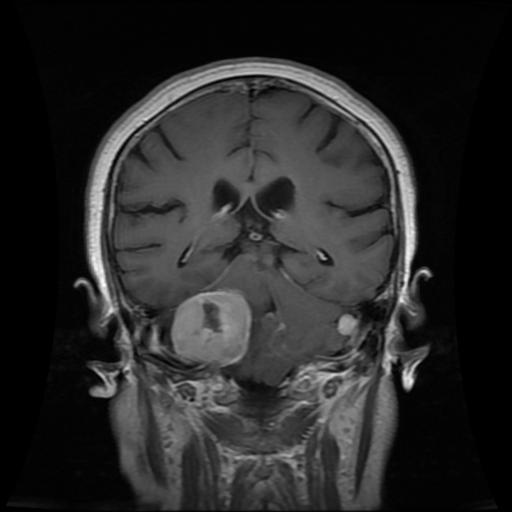Menigiomia_tumour: (169, 289, 249, 365)
